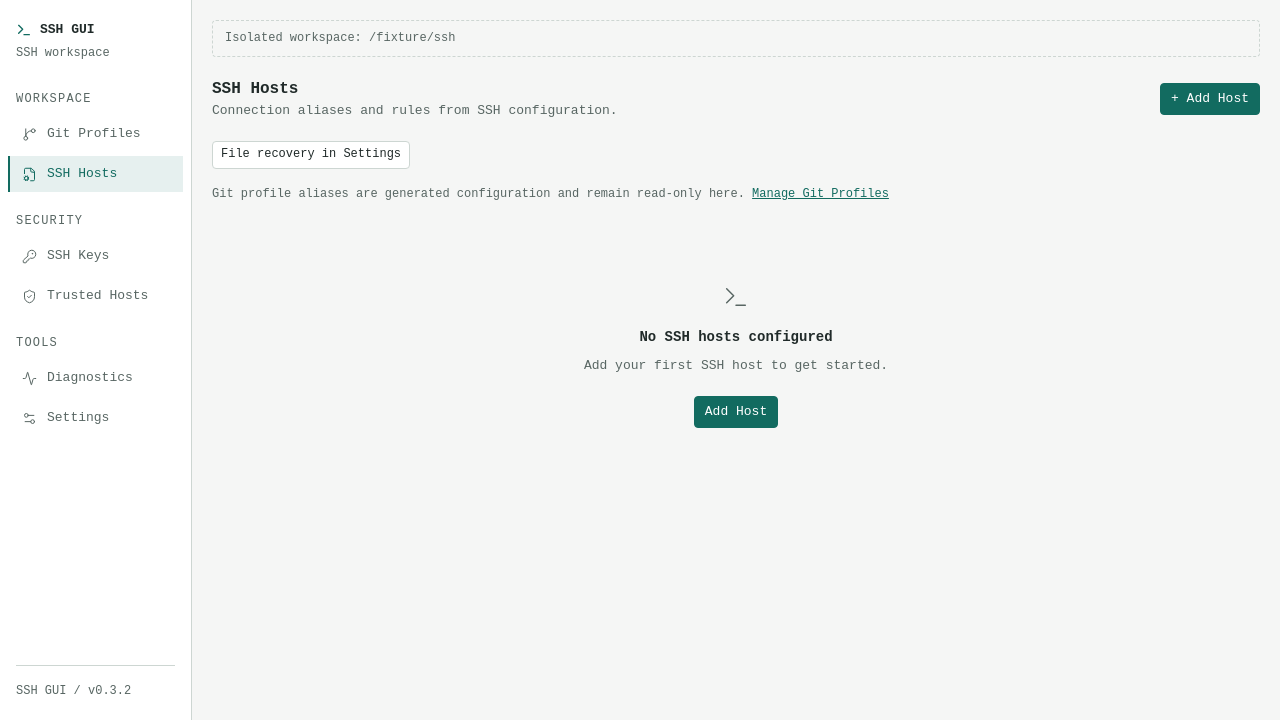
Test: migrates a saved Launcher tab to Hosts and routes recovery to Settings
Check: the heading "SSH Hosts" is shown, box [212,80,298,98]
Check: the text "Backups and recovery" is not shown
Click the button "File recovery in Settings". click: (311, 155)
box: [212,141,410,169]
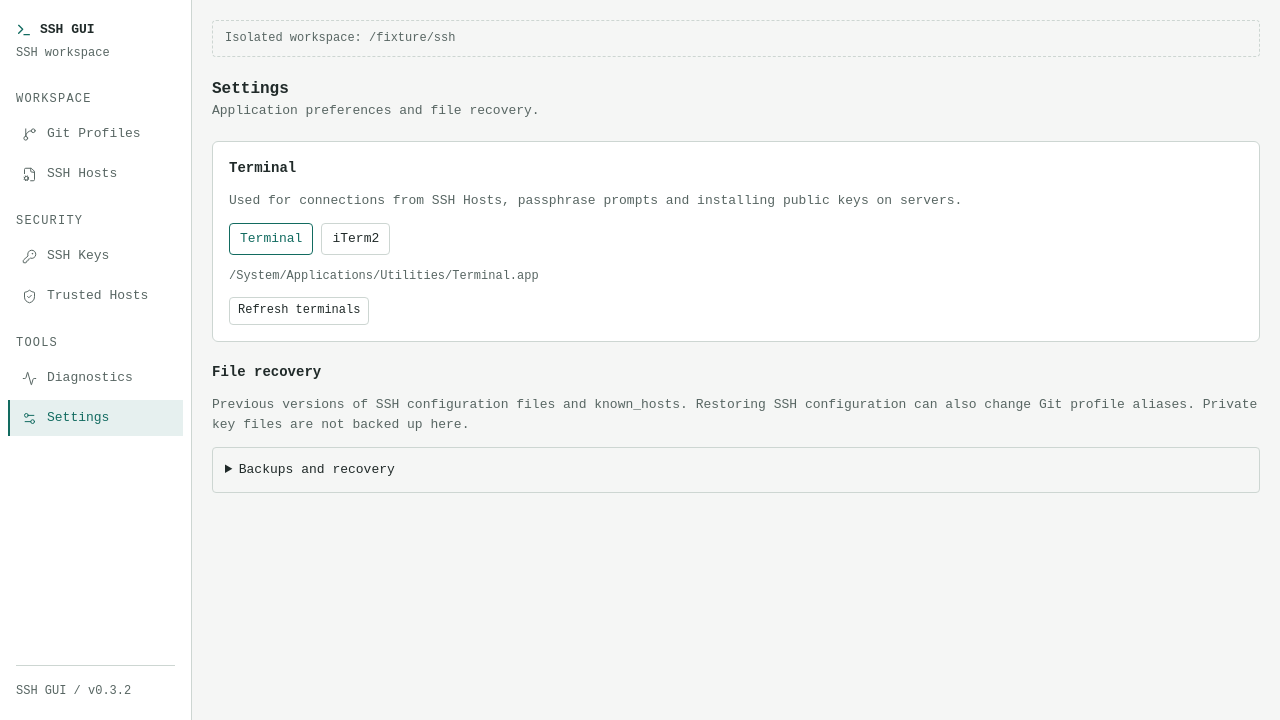
Check: the heading "Settings" is shown, box [212,80,289,98]
